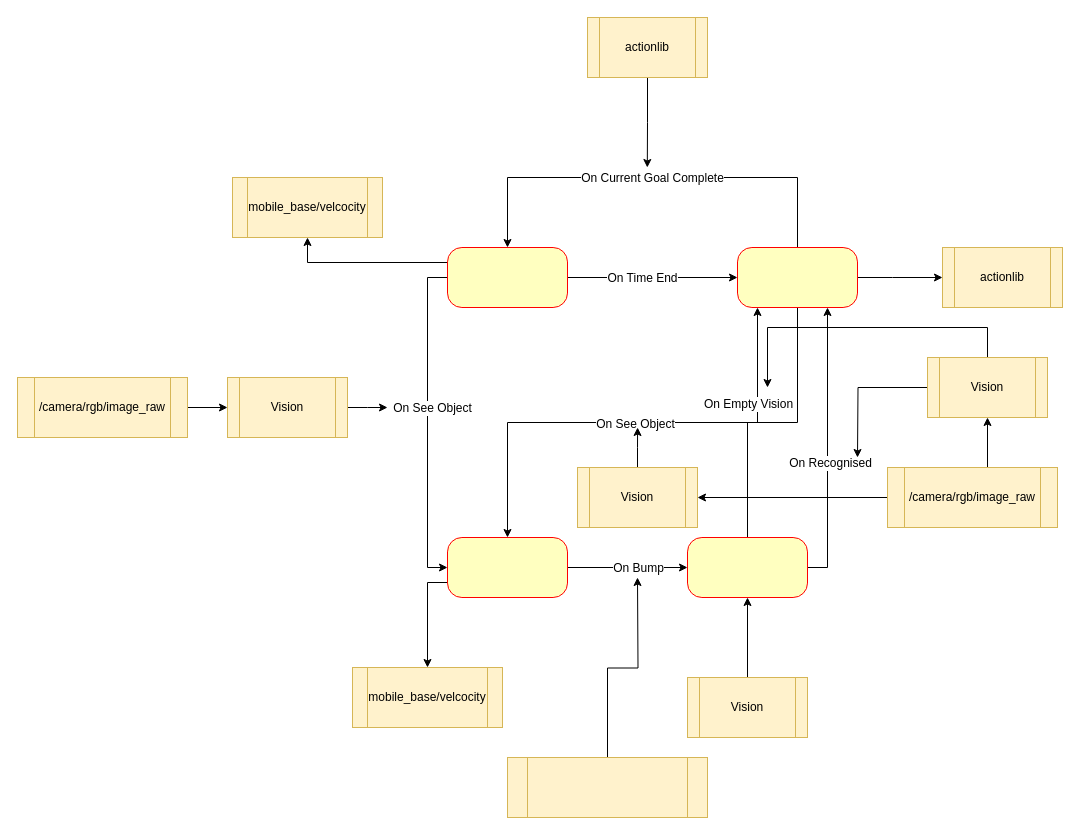
This 1080x835 diagram has some shape labels left out. The centre of each missing label's shape, as x and y in pixels:
"/mobile_base/events/bumper" goes at pixel 607 787.
"Move" goes at pixel 507 567.
"Patrol" goes at pixel 797 277.
"Recognize" goes at pixel 747 567.
"Start/Rotate" goes at pixel 507 277.
